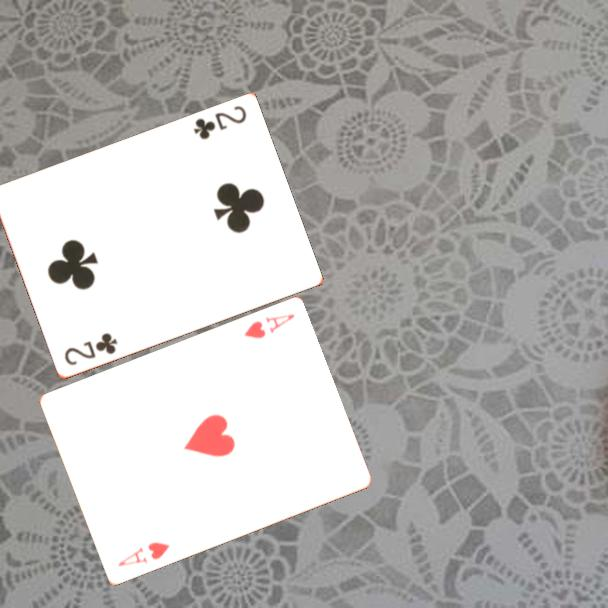c02: (190, 102, 249, 143), (61, 330, 120, 369)
h01: (114, 539, 173, 570), (240, 311, 298, 342)
